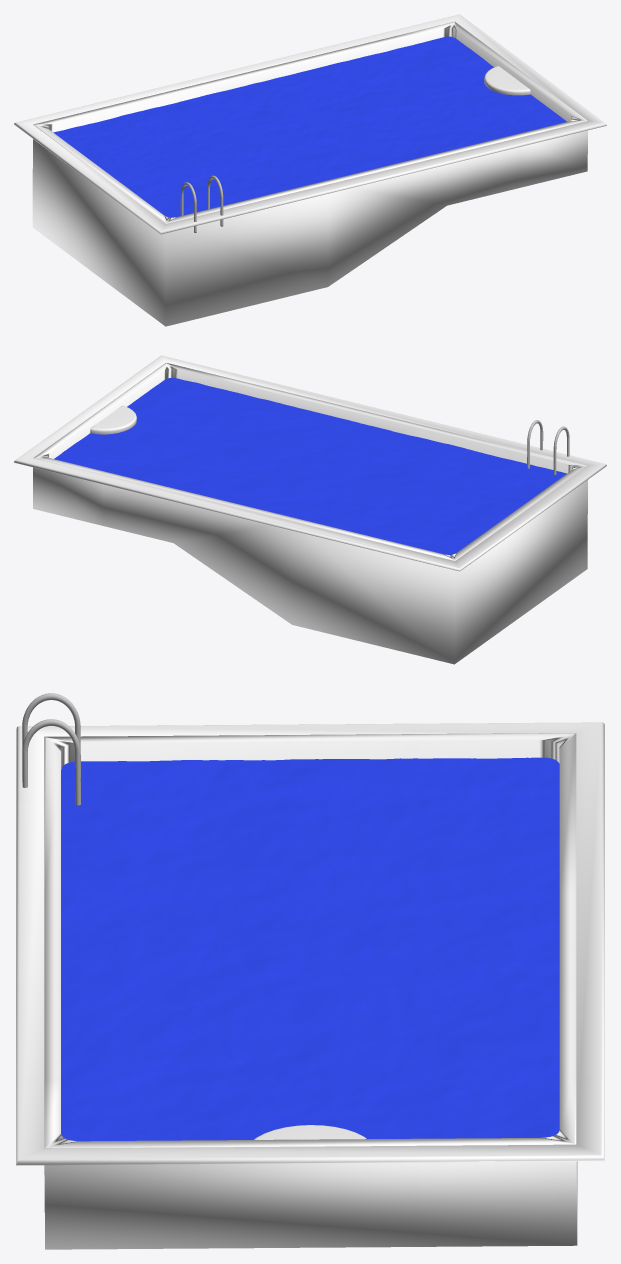
The model's file is pool.obj.
The picture shows the model from 3 angles, top to bottom: view 1: azimuth 30°, elevation 25°; view 2: azimuth 150°, elevation 25°; view 3: azimuth 270°, elevation 25°; orthographic projection. The views are drawn at different scales.
Parts seen in each view (by area): view 1: SWIMMING_POOL, SWIMMING_POOL_WATER, SWIMMING_POOL_LADDER; view 2: SWIMMING_POOL, SWIMMING_POOL_WATER, SWIMMING_POOL_LADDER; view 3: SWIMMING_POOL_WATER, SWIMMING_POOL, SWIMMING_POOL_LADDER.
Boxes of the visible parts, <box> form: SWIMMING_POOL: <box>14,14,606,326</box>; SWIMMING_POOL_WATER: <box>53,36,566,217</box>; SWIMMING_POOL_LADDER: <box>180,175,223,232</box>; SWIMMING_POOL: <box>14,355,606,664</box>; SWIMMING_POOL_WATER: <box>54,378,566,554</box>; SWIMMING_POOL_LADDER: <box>527,420,569,474</box>; SWIMMING_POOL_WATER: <box>61,757,559,1141</box>; SWIMMING_POOL: <box>16,722,604,1249</box>; SWIMMING_POOL_LADDER: <box>22,693,80,805</box>.
Bounding box in the file's own units: 44.47 × 13.03 × 25.4.
Materials: 4 (3 with a texture image).
